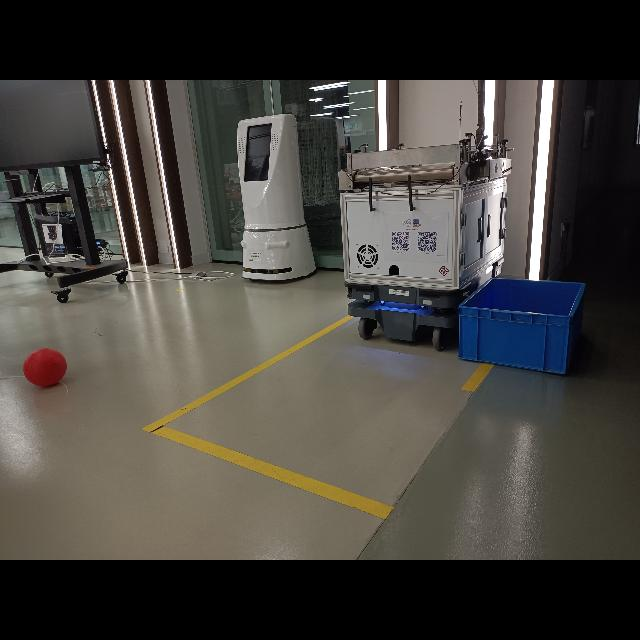R: (24, 345, 70, 393)
